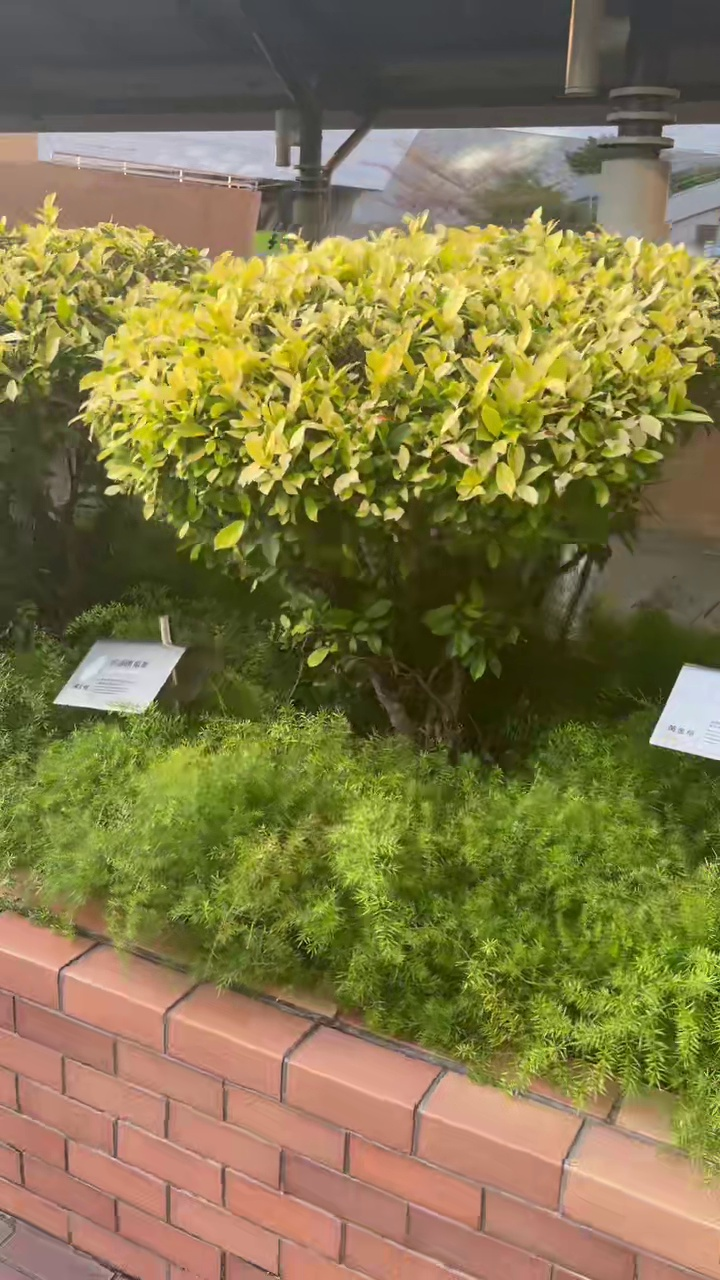Golden-leaves Fig: (81, 216, 719, 741)
